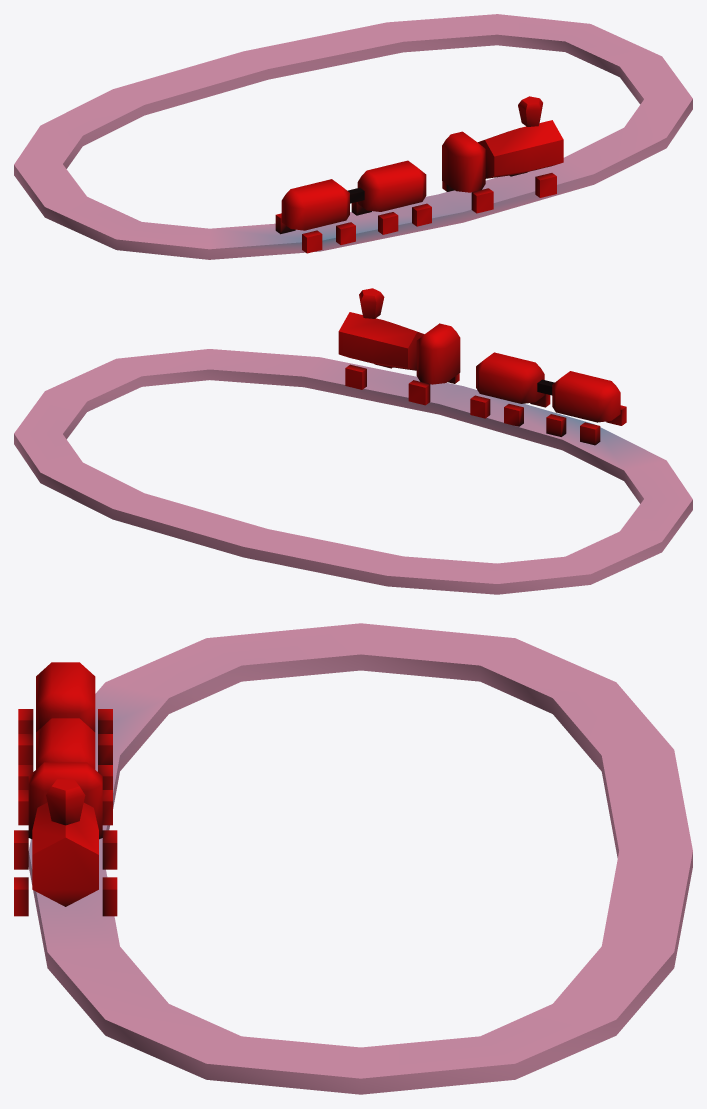
The model's file is CI_Kids_TrainSet.glb.
The picture shows the model from 3 angles, top to bottom: view 1: azimuth 30°, elevation 25°; view 2: azimuth 150°, elevation 25°; view 3: azimuth 270°, elevation 25°; orthographic projection. The views are drawn at different scales.
Parts seen in each view (by area): view 1: CI_Kids_TrainSet; view 2: CI_Kids_TrainSet; view 3: CI_Kids_TrainSet.
Boxes of the visible parts, x1,y1,x2,y2 form: CI_Kids_TrainSet: [14, 14, 692, 259]; CI_Kids_TrainSet: [14, 288, 692, 594]; CI_Kids_TrainSet: [14, 623, 692, 1094].
Bounding box in the file's own units: 0.73 × 0.106 × 0.46.
